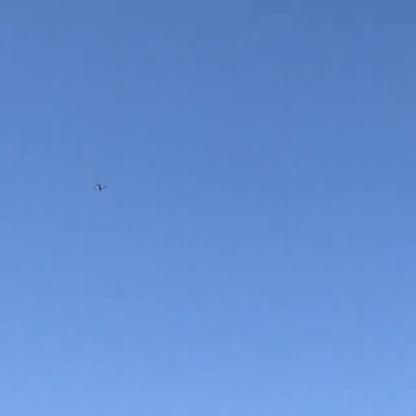CIV_Plane: (94, 184, 109, 192)
